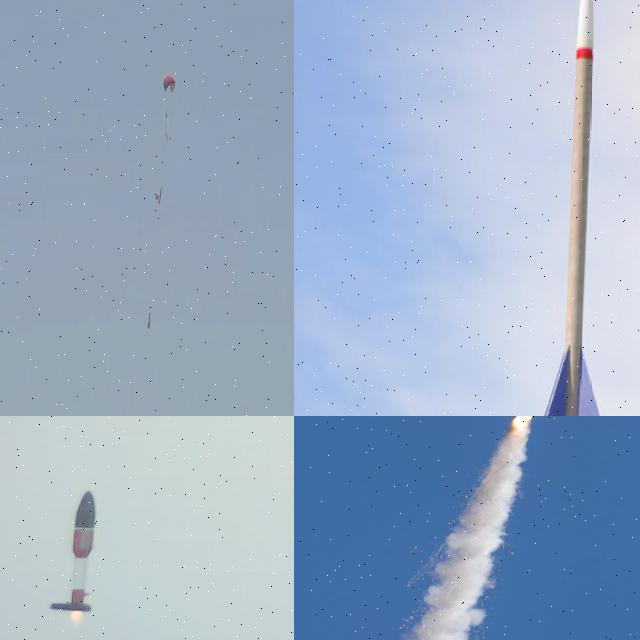Rocket: (533, 0, 607, 416), (49, 488, 98, 612), (148, 313, 150, 329)
